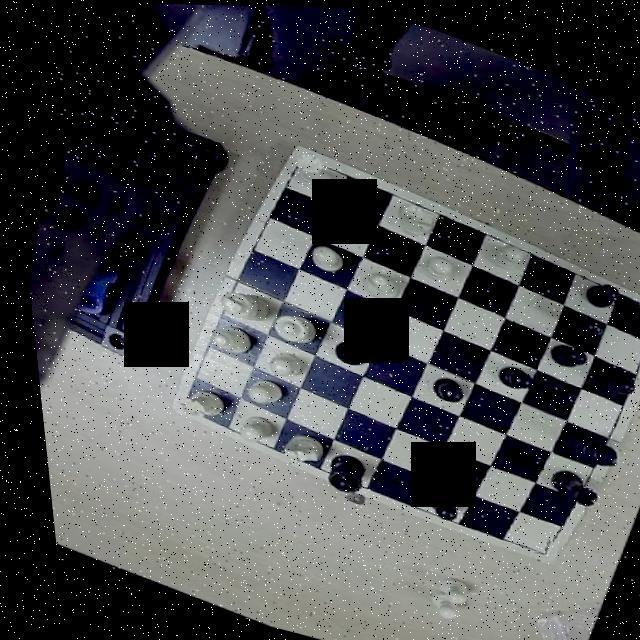chess-table-corners: (278, 144, 324, 188), (162, 380, 205, 420), (515, 530, 558, 566), (622, 294, 640, 334)
